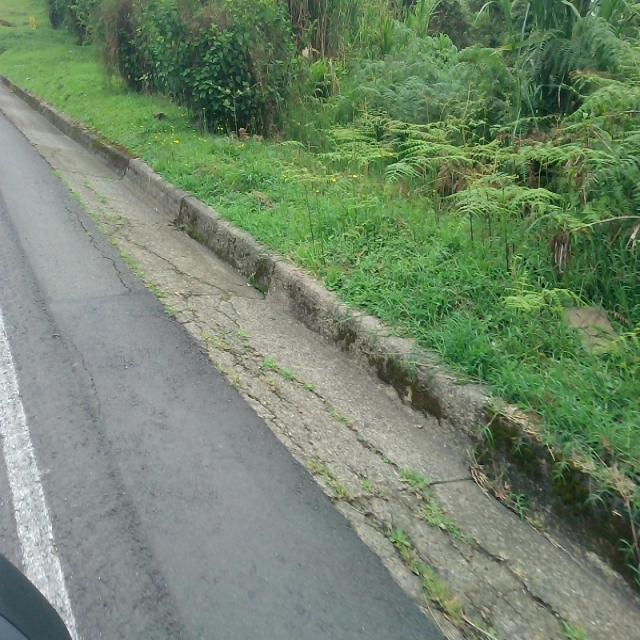DITCH: (1, 58, 639, 639), (1, 74, 638, 639)
